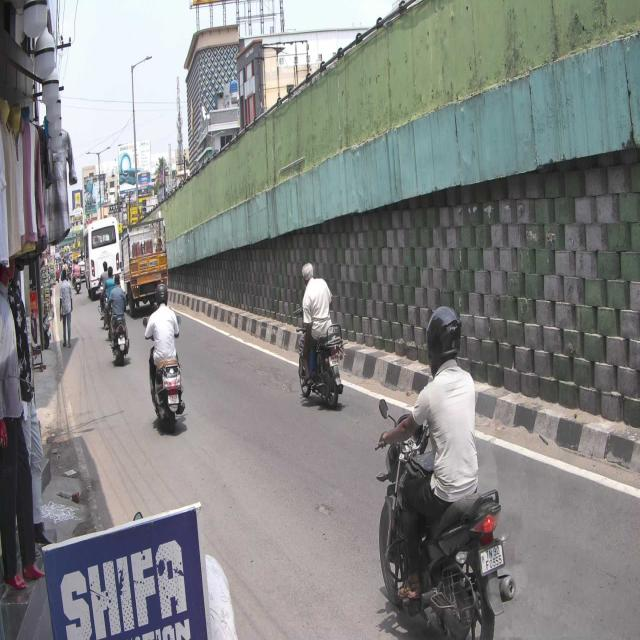single_rider: (374, 301, 515, 640), (292, 261, 347, 414), (143, 282, 187, 434)
